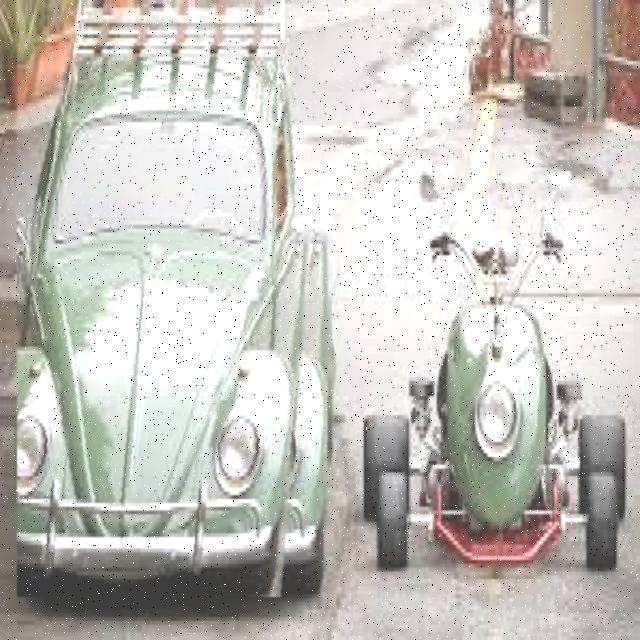car: (19, 44, 333, 598)
